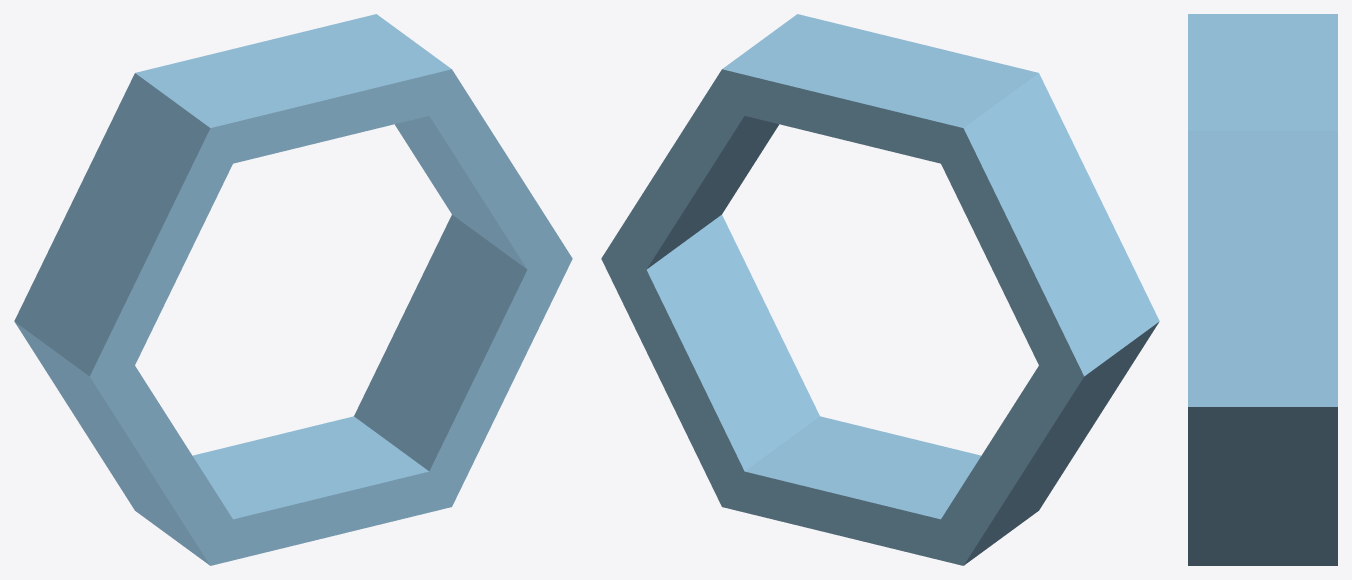
Rendered from nut.obj.
3 renders of one model, left to right at view 1: azimuth 30°, elevation 25°; view 2: azimuth 150°, elevation 25°; view 3: azimuth 270°, elevation 25°, orthographic.
Visible parts, largest first — view 1: mesh6, mesh2, mesh8, mesh1, mesh9, mesh3, mesh13; view 2: mesh7, mesh2, mesh8, mesh1, mesh9, mesh3, mesh13; view 3: mesh0, mesh5, mesh1.
Part boxes in pixels (x1,y1,x2,y2): mesh6: [90, 69, 572, 565]; mesh2: [14, 73, 210, 376]; mesh8: [354, 215, 526, 471]; mesh1: [135, 14, 451, 127]; mesh9: [193, 416, 428, 519]; mesh3: [15, 322, 209, 565]; mesh13: [395, 116, 526, 268]; mesh7: [601, 69, 1083, 565]; mesh2: [963, 73, 1159, 376]; mesh8: [647, 215, 819, 471]; mesh1: [722, 14, 1038, 127]; mesh9: [745, 416, 980, 519]; mesh3: [964, 322, 1158, 565]; mesh13: [647, 116, 778, 268]; mesh0: [1188, 131, 1337, 406]; mesh5: [1188, 407, 1337, 565]; mesh1: [1188, 14, 1337, 130].
Size of the model in its own units: 0.1848 by 0.16 by 0.05.
